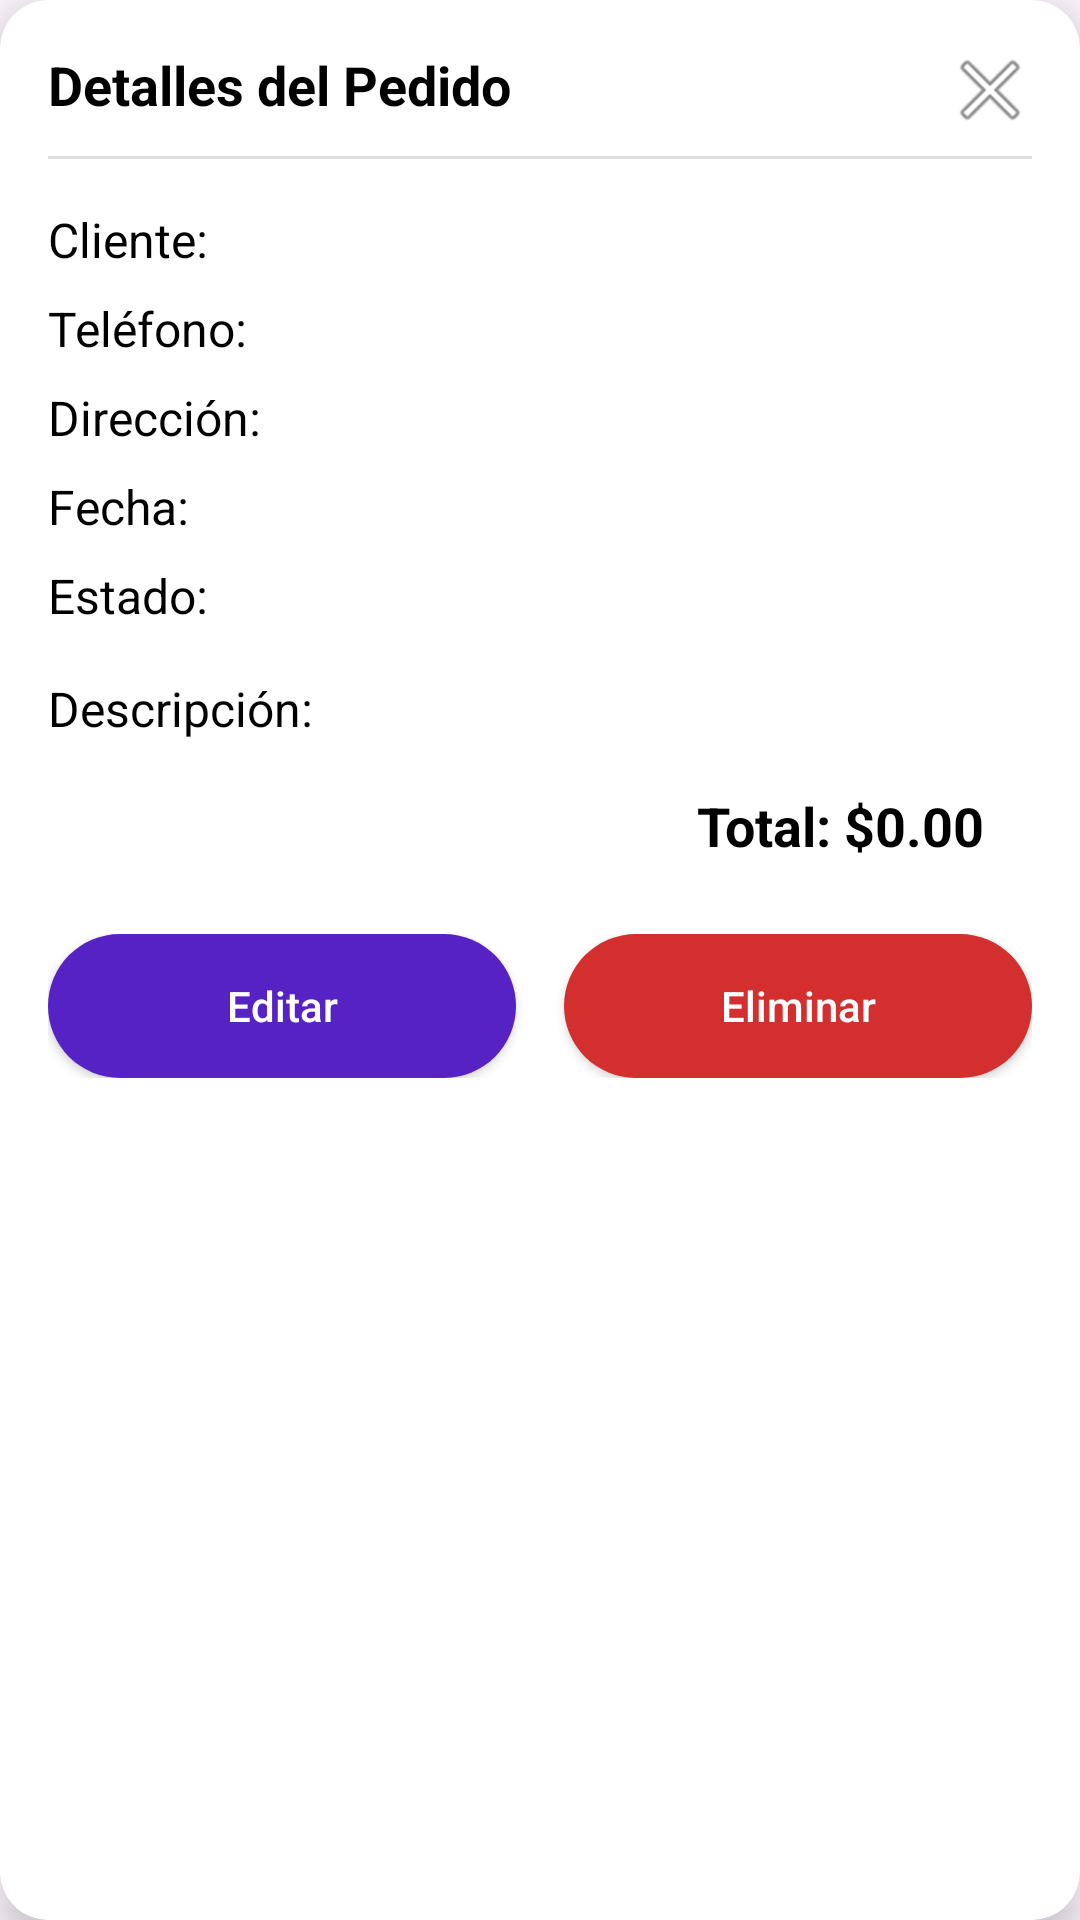

Icons on this 1080×1920 Android screen, each with its box as [left=x1, top=y1, right=x2, bottom=y2]:
close clear cancel: [left=960, top=60, right=1020, bottom=120]
